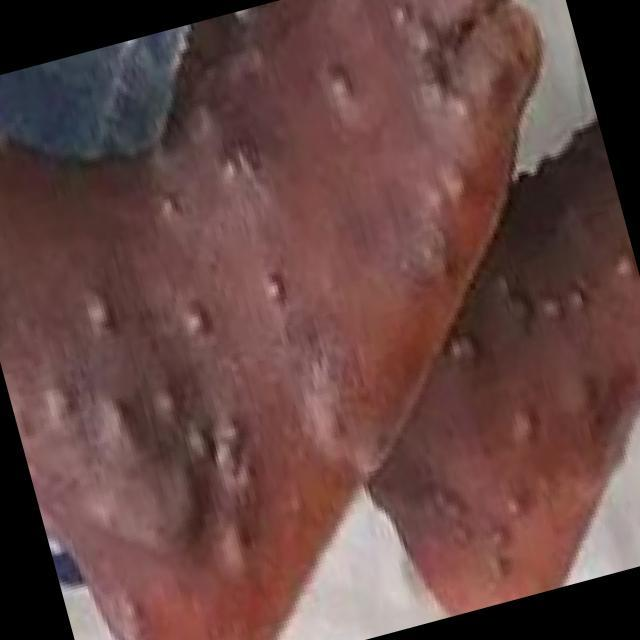Eczema: (68, 12, 466, 639), (437, 172, 634, 581)
